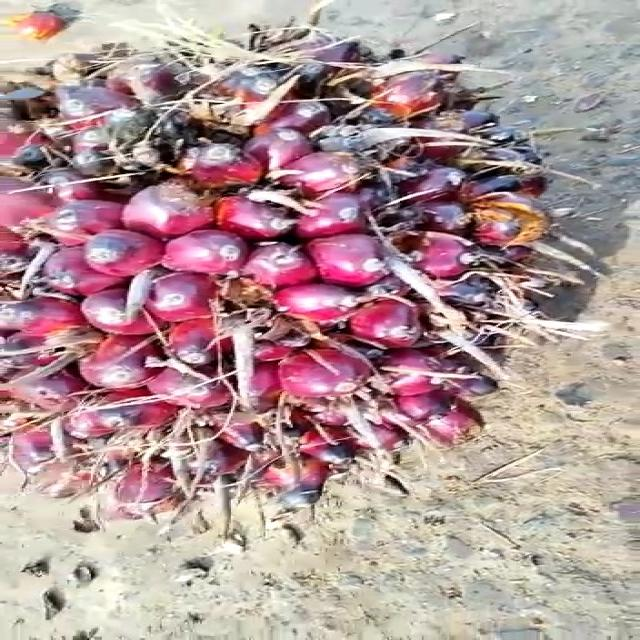palm oil: (0, 14, 589, 538)
